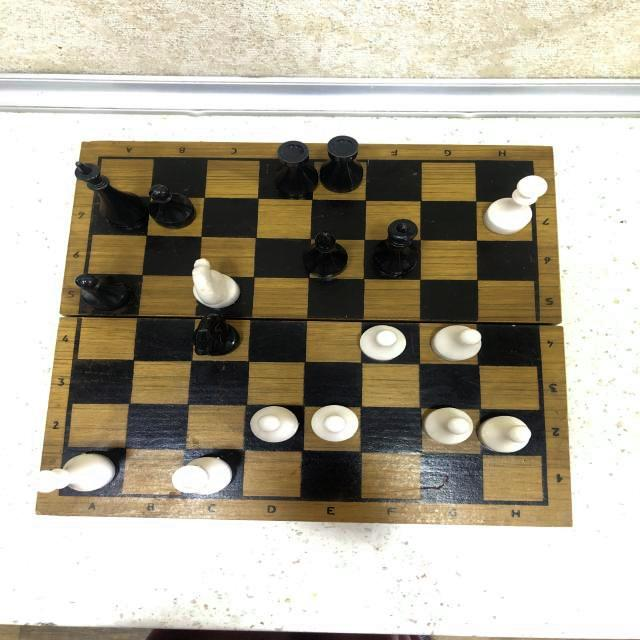chess-table-corners: (526, 488, 560, 518), (514, 150, 550, 176), (92, 146, 113, 164), (53, 491, 72, 504)
